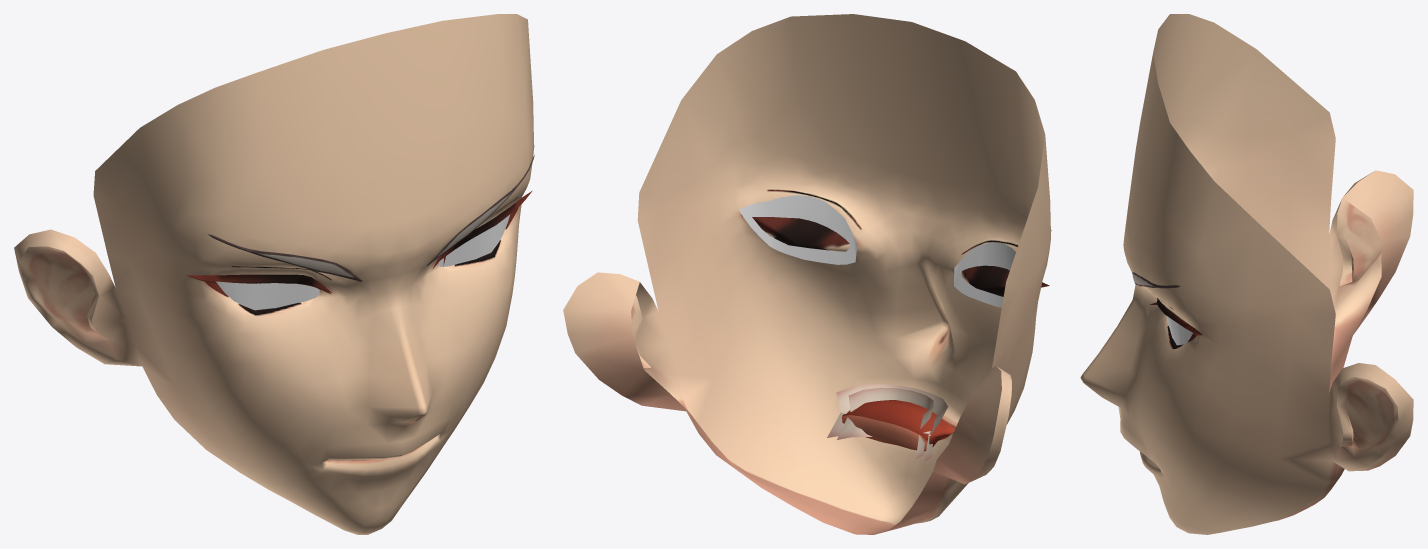
File: Koga.fbx
3 views of the same model, side by side, from view 1: azimuth 30°, elevation 25°; view 2: azimuth 150°, elevation 25°; view 3: azimuth 270°, elevation 25° (orthographic). The views are drawn at different scales.
Visible parts, largest first — view 1: M_Head, M_Eye_B_Def, M_Mth_B_Def, M_PupALL_R_A_Def, M_Brw_B_Def, M_PupALL_L_A_Def; view 2: M_Head, M_Eye_B_Def, M_Mth_B_Def, M_PupALL_L_A_Def, M_PupALL_R_A_Def; view 3: M_Head, M_Eye_B_Def, M_Mth_B_Def, M_PupALL_L_A_Def.
Part boxes in pixels (x1,y1,x2,y2): M_Head: (14,14,534,404); M_Eye_B_Def: (150,148,533,416); M_Mth_B_Def: (143,358,494,534); M_PupALL_R_A_Def: (216,281,319,310); M_Brw_B_Def: (207,154,534,281); M_PupALL_L_A_Def: (438,214,510,266); M_Head: (563,14,1050,484); M_Eye_B_Def: (691,153,1050,421); M_Mth_B_Def: (683,323,1013,534); M_PupALL_L_A_Def: (738,195,857,264); M_PupALL_R_A_Def: (954,242,1015,307); M_Head: (1123,14,1413,471); M_Eye_B_Def: (1080,135,1246,455); M_Mth_B_Def: (1081,329,1352,534); M_PupALL_L_A_Def: (1166,315,1192,345).
Size of the model in its own units: 0.1668 by 0.175 by 0.1105.
Materials: 4 (2 with a texture image).
